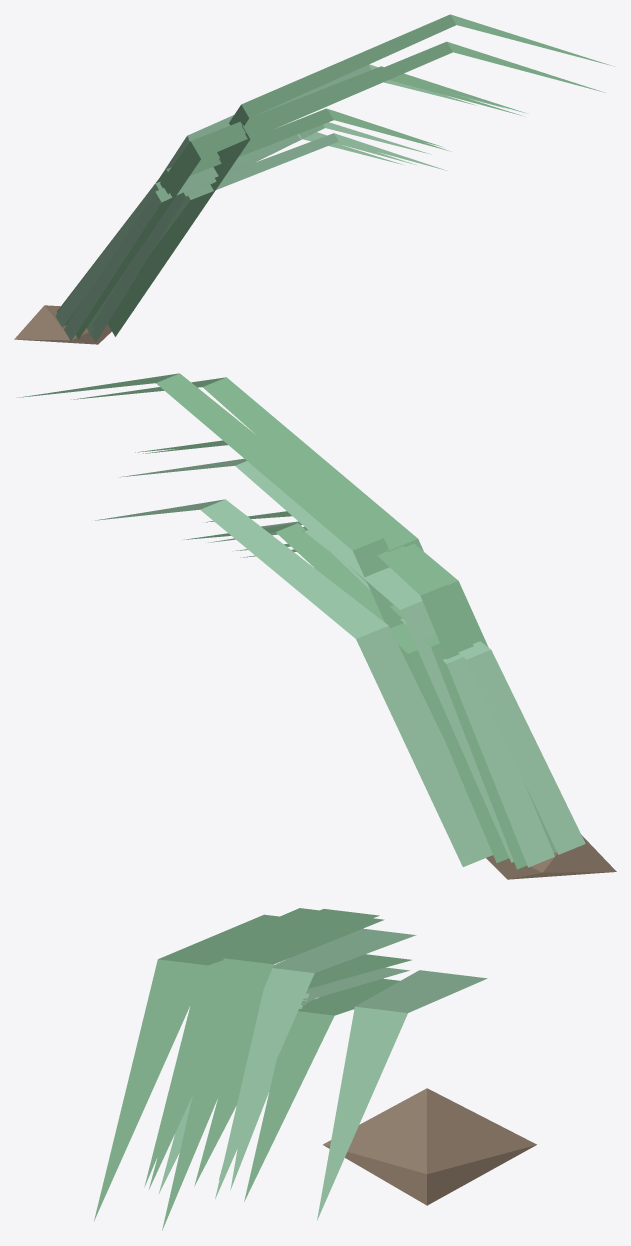
The model's file is shui.kucao__bloom.glb.
3 views of the same model, one above another, from view 1: azimuth 30°, elevation 25°; view 2: azimuth 150°, elevation 25°; view 3: azimuth 270°, elevation 25° (orthographic). The views are drawn at different scales.
Parts seen in each view (by area): view 1: shui.kucao__bloom; view 2: shui.kucao__bloom; view 3: shui.kucao__bloom.
Part boxes in pixels (x1=…): shui.kucao__bloom: x1=14, y1=14, x2=614, y2=344; shui.kucao__bloom: x1=17, y1=373, x2=616, y2=879; shui.kucao__bloom: x1=94, y1=908, x2=536, y2=1230.
Size of the model in its own units: 1.33 by 0.6411 by 0.4758.
